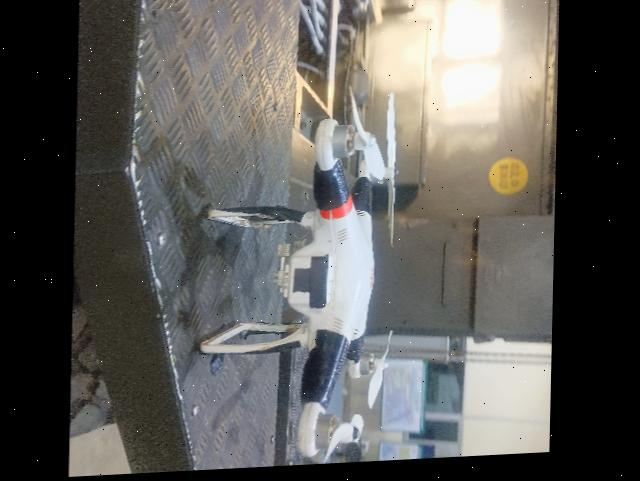drone: (186, 70, 431, 473)
